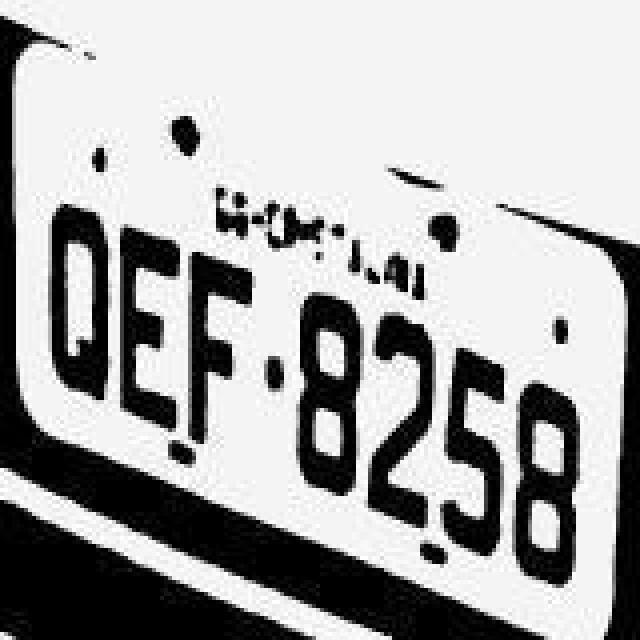2: (364, 310, 436, 530)
5: (444, 350, 508, 562)
8: (510, 368, 586, 592), (292, 292, 364, 500)
E: (116, 220, 188, 452)
F: (190, 244, 258, 468)
Q: (44, 192, 116, 416)
